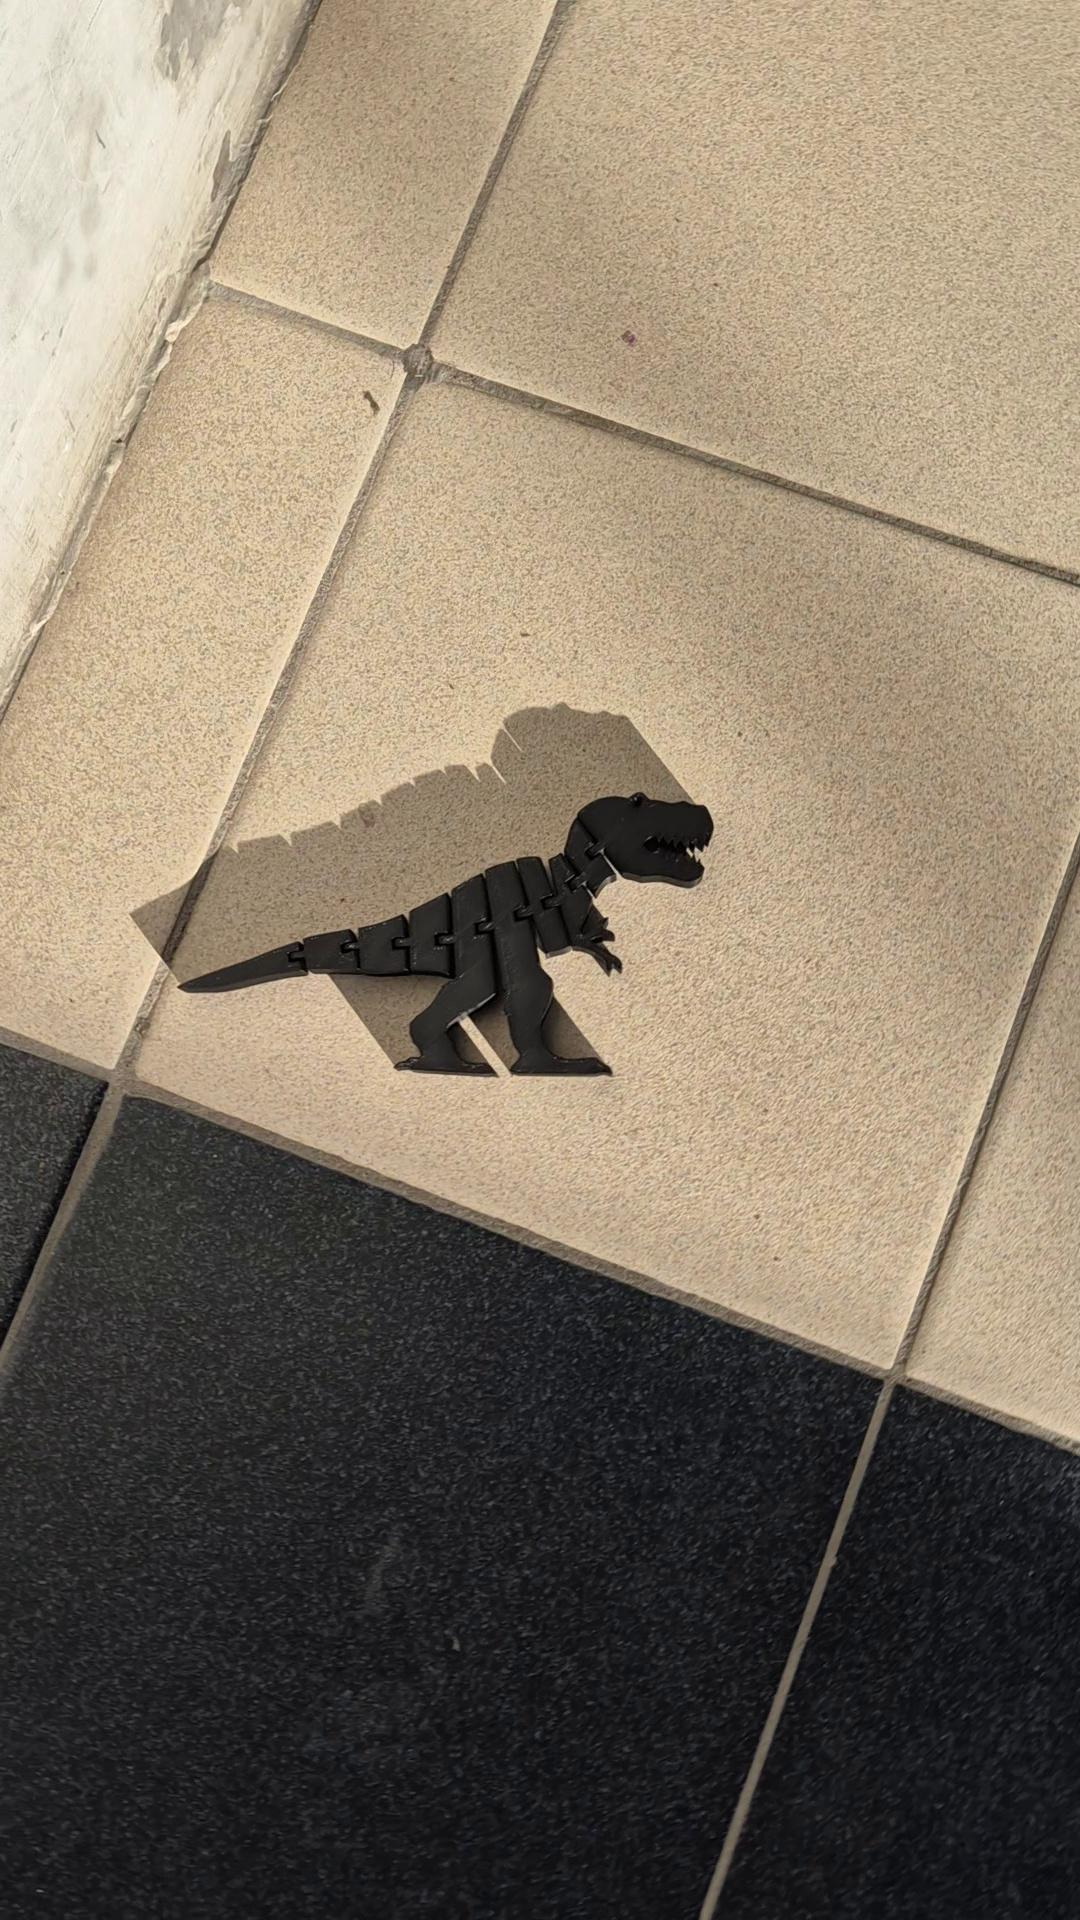dinosaur: (174, 790, 716, 1080)
